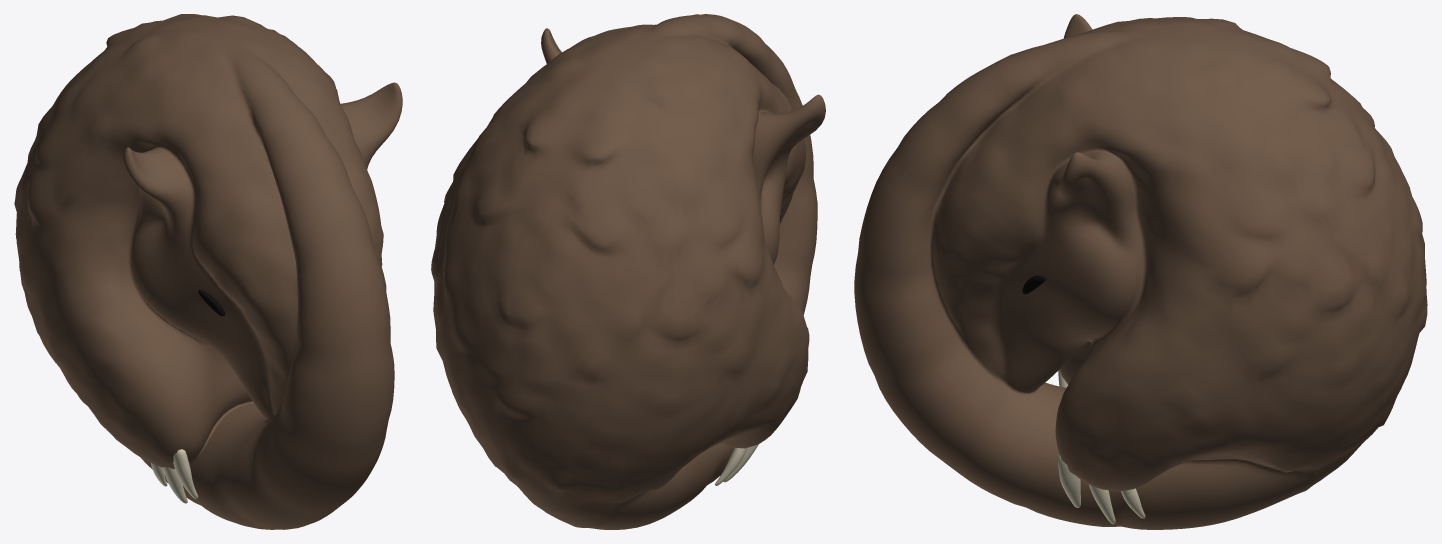
File: PicheLowHighTest07.obj
The picture shows the model from 3 angles, left to right: view 1: azimuth 30°, elevation 25°; view 2: azimuth 150°, elevation 25°; view 3: azimuth 270°, elevation 25°; orthographic projection. The views are drawn at different scales.
Visible parts, largest first — view 1: PicheBody-LOW.001, GARRAS; view 2: PicheBody-LOW.001, GARRAS; view 3: PicheBody-LOW.001, GARRAS.
Part boxes in pixels (bbox=[...]): PicheBody-LOW.001: bbox=[14, 14, 402, 529]; GARRAS: bbox=[151, 449, 198, 503]; PicheBody-LOW.001: bbox=[431, 14, 825, 529]; GARRAS: bbox=[715, 444, 758, 485]; PicheBody-LOW.001: bbox=[854, 14, 1427, 529]; GARRAS: bbox=[1058, 370, 1145, 524].
Bounding box in the file's own units: 1.43 × 2.05 × 2.17.
